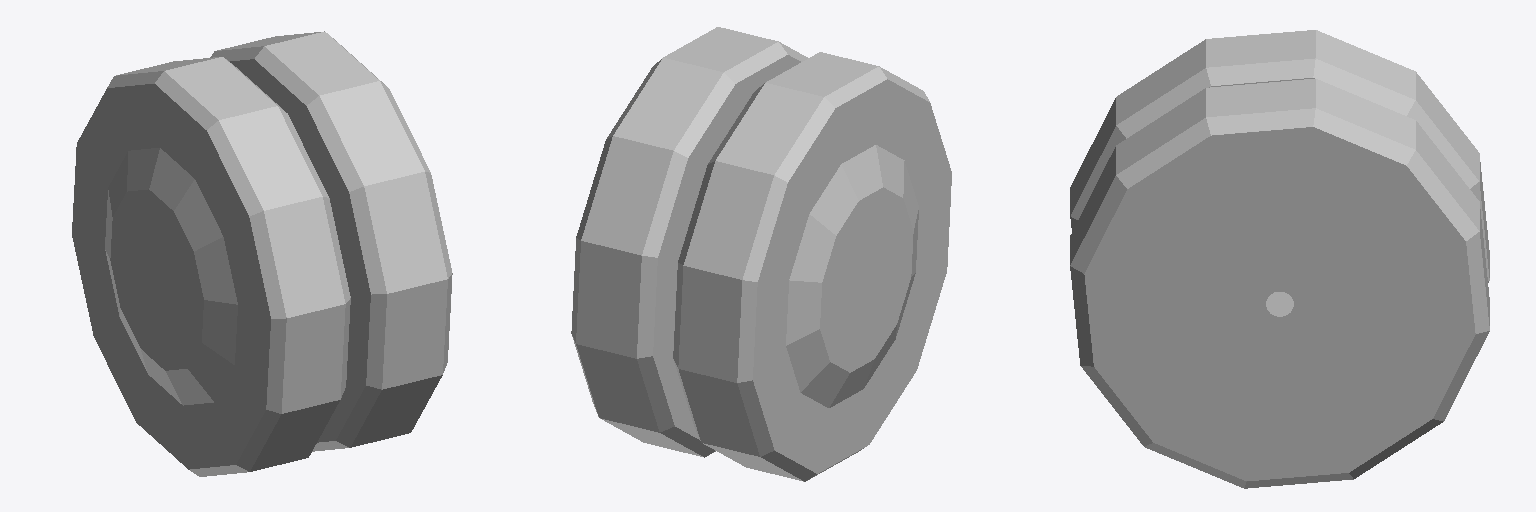
File: big_foot_wheel.obj
3 views of the same model, side by side, from view 1: azimuth 30°, elevation 25°; view 2: azimuth 150°, elevation 25°; view 3: azimuth 270°, elevation 25° (orthographic).
Visible parts, largest first — view 1: Cube.002; view 2: Cube.002; view 3: Cube.002.
Part boxes in pixels (left/top/right/bottom): Cube.002: left=72, top=31, right=452, bottom=476; Cube.002: left=571, top=27, right=951, bottom=481; Cube.002: left=1070, top=30, right=1489, bottom=488.
Bounding box in the file's own units: 1.13 × 2.08 × 2.08.